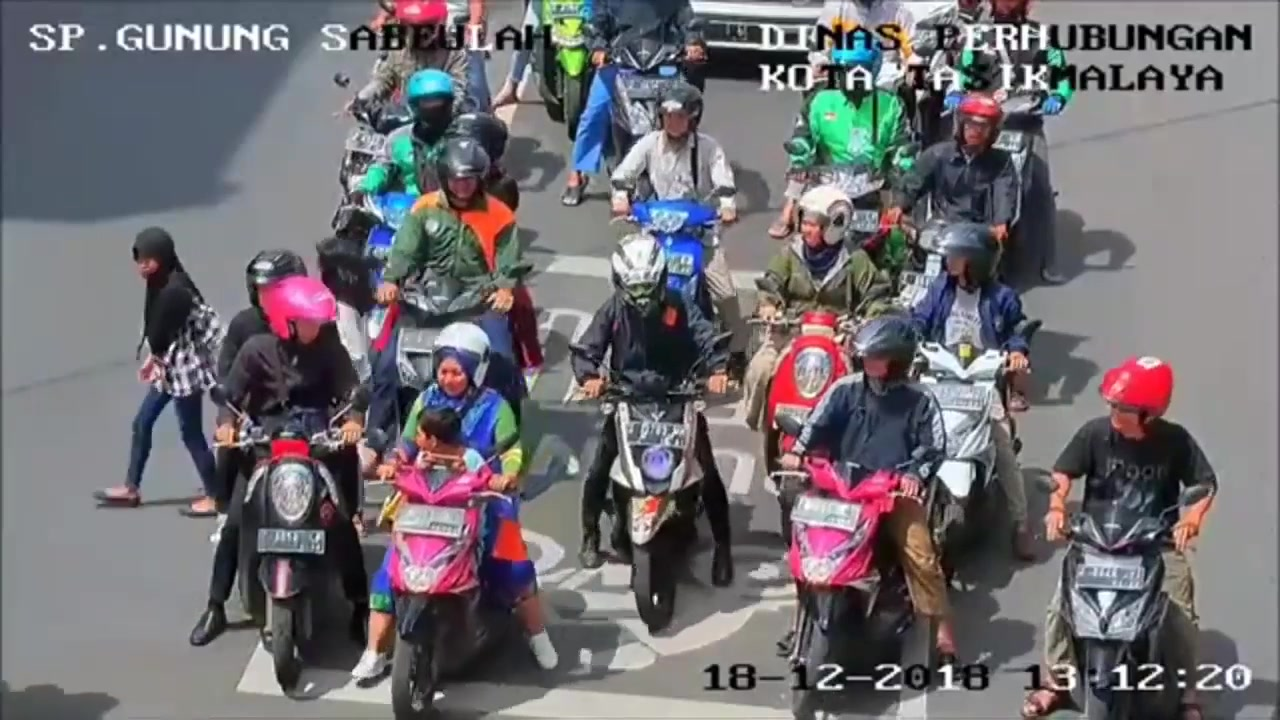person without motorcycle: (101, 222, 226, 567)
